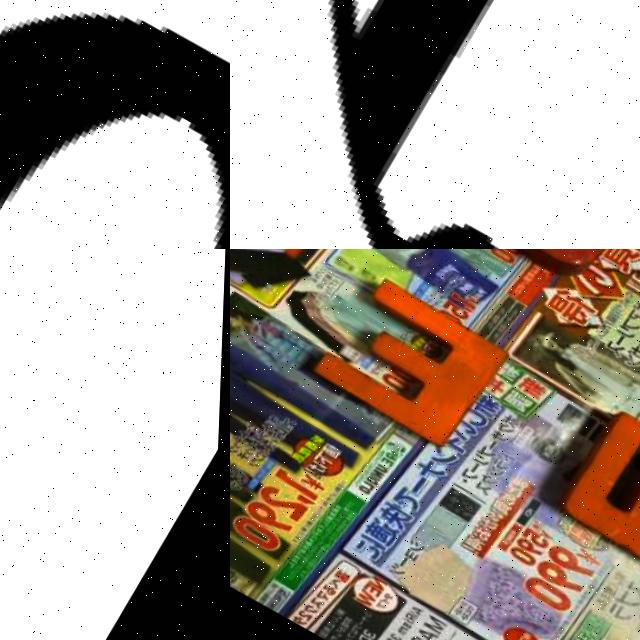2: (0, 249, 170, 640)
E: (305, 266, 515, 455)
O: (0, 11, 230, 249)
U: (450, 249, 640, 290)
W: (553, 404, 640, 584)
Y: (230, 0, 640, 249)
